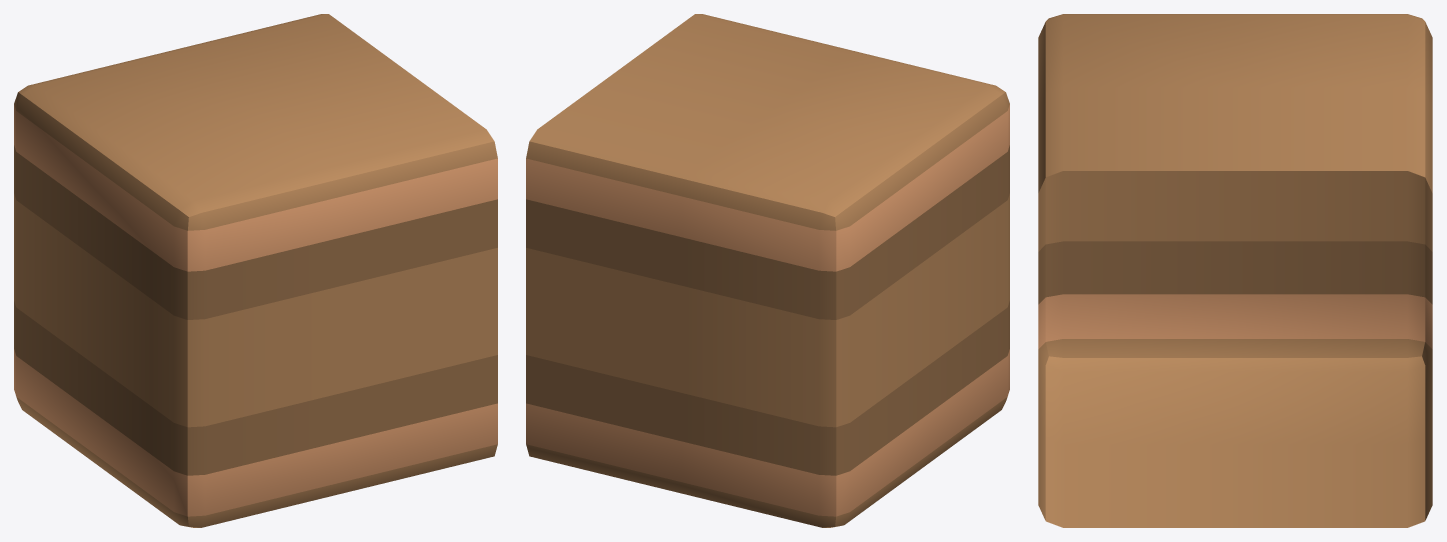
Rendered from Cube_Dirt_1x1End.gltf.
The picture shows the model from 3 angles, left to right: view 1: azimuth 30°, elevation 25°; view 2: azimuth 150°, elevation 25°; view 3: azimuth 270°, elevation 25°; orthographic projection. The views are drawn at different scales.
Visible parts, largest first — view 1: Cube_Dirt_1x1End; view 2: Cube_Dirt_1x1End; view 3: Cube_Dirt_1x1End.
Boxes of the visible parts, x1=… form: Cube_Dirt_1x1End: x1=14, y1=14, x2=497, y2=527; Cube_Dirt_1x1End: x1=526, y1=14, x2=1009, y2=527; Cube_Dirt_1x1End: x1=1038, y1=14, x2=1432, y2=527.
Bounding box in the file's own units: 2 × 2 × 2.
